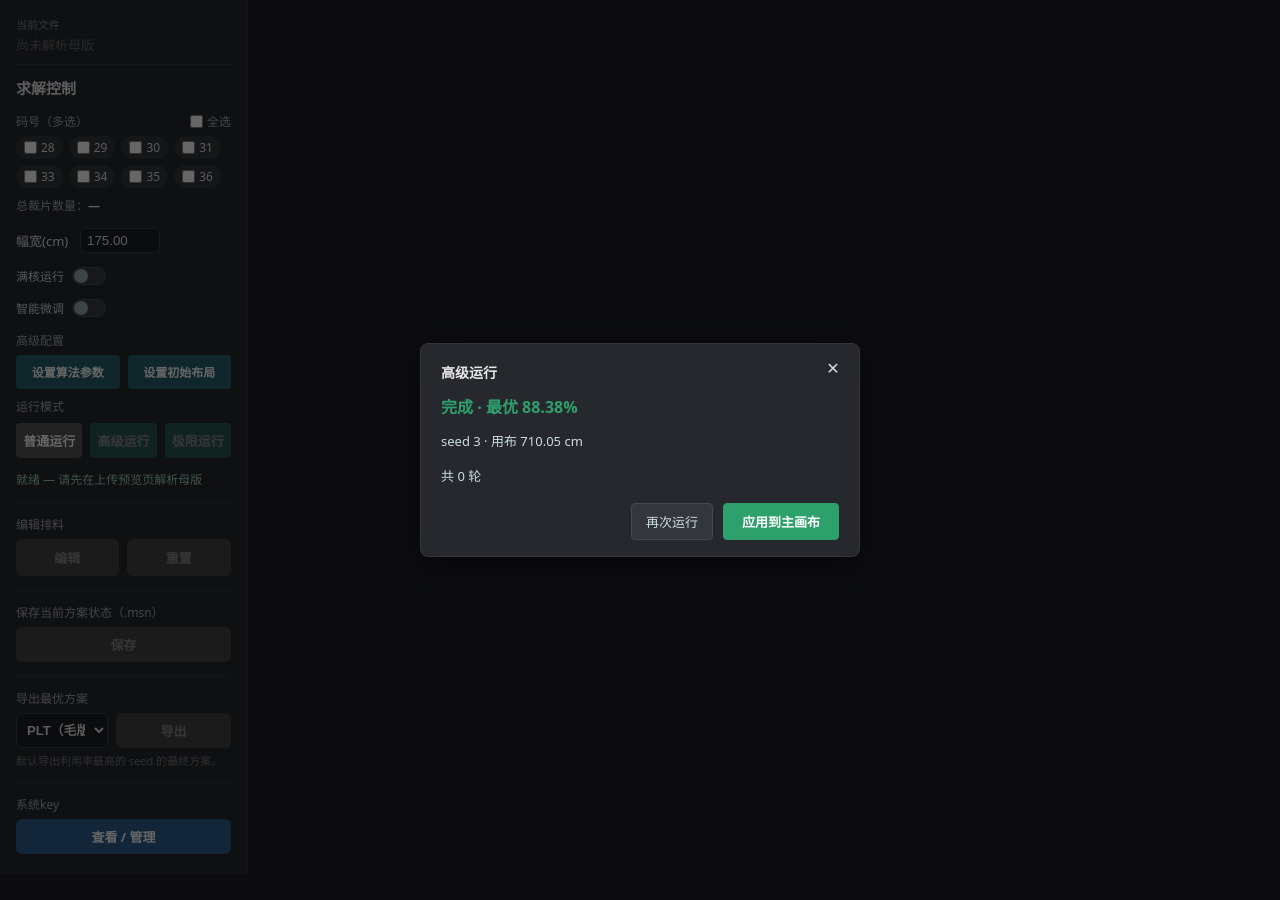
Scenario: NestingPage run-provenance (US-004) › apply race 结果（strategyStore.lastStart.minutes=20 在场）→ origin={strategy_race,{minutes:20}} + 小字「策略运行·race(20min)」
The width and height of the screenshot is (1280, 900).
Click the button with test id "strategy-apply-btn" at (781, 521), box [723, 503, 839, 540]
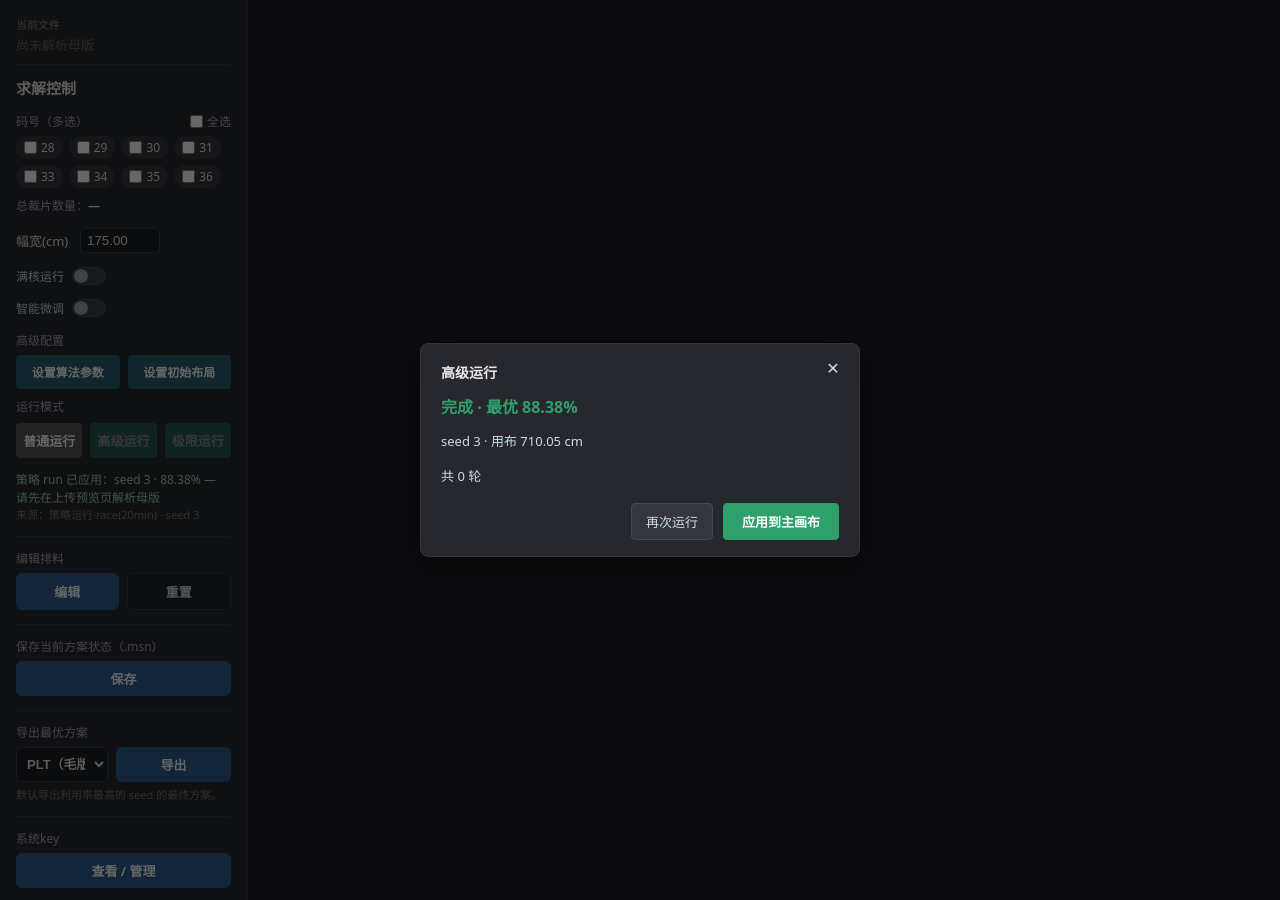
Check: the text "来源：策略运行·race(20min) · seed 3" is shown, box [16, 506, 231, 522]
Check: the text with test id "run-provenance" reads "来源：策略运行·race(20min) · seed 3", box [16, 507, 199, 522]
